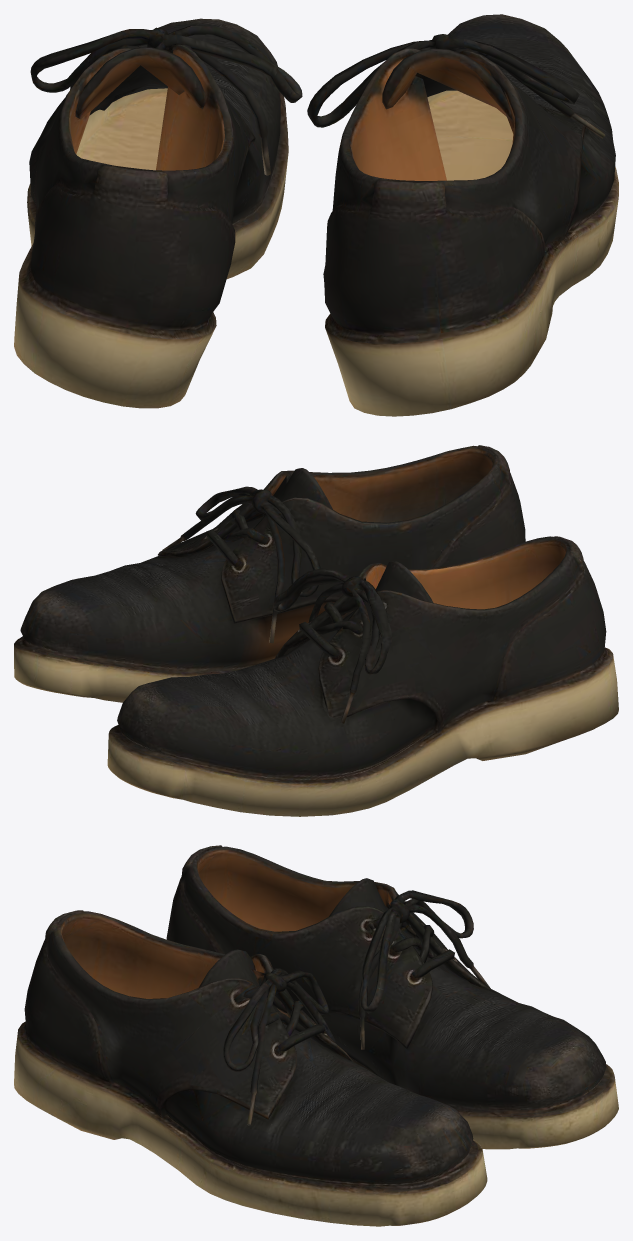
Rendered from shoes.glb.
The picture shows the model from 3 angles, top to bottom: view 1: azimuth 30°, elevation 25°; view 2: azimuth 150°, elevation 25°; view 3: azimuth 270°, elevation 25°; orthographic projection. The views are drawn at different scales.
Parts seen in each view (by area): view 1: tripo_node_e266bd1d-4a70-4c1e-9e59-aab016f061a7; view 2: tripo_node_e266bd1d-4a70-4c1e-9e59-aab016f061a7; view 3: tripo_node_e266bd1d-4a70-4c1e-9e59-aab016f061a7.
Boxes of the visible parts, left/top/right/bottom form: tripo_node_e266bd1d-4a70-4c1e-9e59-aab016f061a7: left=14, top=14, right=618, bottom=416; tripo_node_e266bd1d-4a70-4c1e-9e59-aab016f061a7: left=14, top=445, right=618, bottom=816; tripo_node_e266bd1d-4a70-4c1e-9e59-aab016f061a7: left=14, top=845, right=618, bottom=1226.
Size of the model in its own units: 0.9604 by 0.3882 by 0.9995.
1 material, 1 textured.
